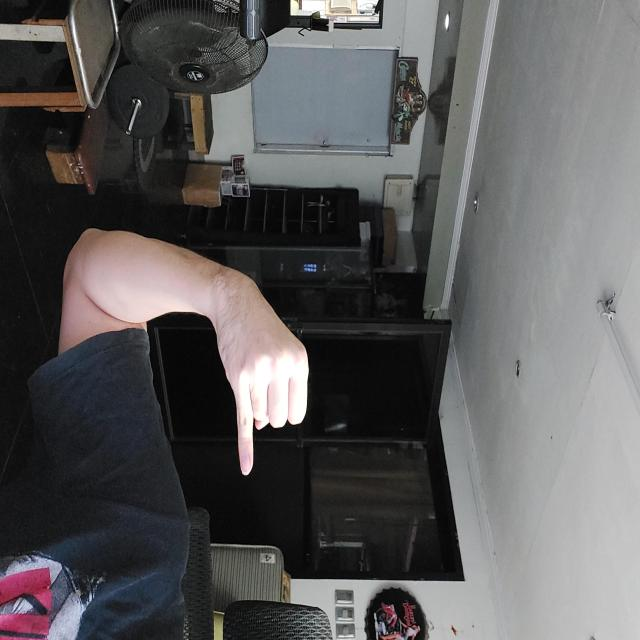J: (272, 329, 476, 428)
